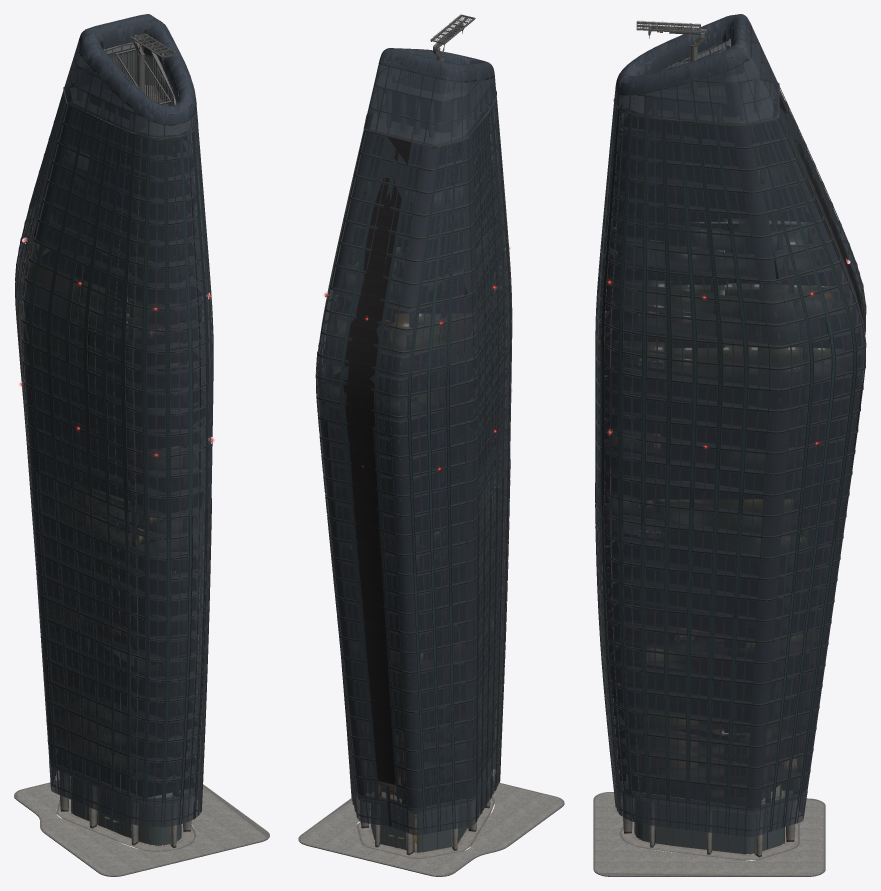
Rendered from london_skyscraper.glb.
3 views of the same model, side by side, from view 1: azimuth 30°, elevation 25°; view 2: azimuth 150°, elevation 25°; view 3: azimuth 270°, elevation 25° (orthographic). The views are drawn at different scales.
Parts seen in each view (by area): view 1: Glass_Generic, Building_Facade.003, Interior_Top, Building_Facade.008, Glass_Generic_More_Opaque, Sidewalk_02, Building_Facade.007, Building_Facade.006, Top_Piece, Glass_Generic.001, Sidewalk_01, Glass_Lobby.002 (+3 smaller); view 2: Building_Facade.003, Glass_Generic, Interior_Top, Glass_Generic_More_Opaque, Building_Facade.007, Sidewalk_02, Building_Facade.008, Building_Facade.006, Top_Piece, Glass_Generic.001, Sidewalk_01, Building_Facade.004 (+3 smaller); view 3: Glass_Generic, Building_Facade.003, Interior_Top, Glass_Generic_More_Opaque, Building_Facade.008, Sidewalk_02, Building_Facade.006, Building_Facade.007, Top_Piece, Glass_Generic.001, Glass_Lobby.002, Sidewalk_01 (+6 smaller).
Part boxes in pixels (box(x1,y1,x2,y2)): Glass_Generic: box(16, 91, 213, 801); Building_Facade.003: box(15, 86, 213, 801); Interior_Top: box(22, 110, 205, 797); Building_Facade.008: box(21, 104, 207, 779); Glass_Generic_More_Opaque: box(64, 14, 197, 137); Sidewalk_02: box(17, 779, 266, 875); Building_Facade.007: box(15, 262, 211, 798); Building_Facade.006: box(63, 14, 198, 139); Top_Piece: box(70, 42, 195, 135); Glass_Generic.001: box(49, 762, 201, 827); Sidewalk_01: box(14, 780, 269, 876); Glass_Lobby.002: box(71, 777, 181, 844); Building_Facade.003: box(316, 97, 512, 810); Glass_Generic: box(316, 99, 511, 810); Interior_Top: box(323, 108, 506, 805); Glass_Generic_More_Opaque: box(364, 48, 496, 147); Building_Facade.007: box(315, 343, 510, 808); Sidewalk_02: box(300, 783, 562, 875); Building_Facade.008: box(321, 115, 506, 792); Building_Facade.006: box(363, 48, 496, 147); Top_Piece: box(371, 71, 494, 144); Glass_Generic.001: box(350, 747, 501, 835); Sidewalk_01: box(298, 783, 564, 876); Building_Facade.004: box(349, 754, 501, 834); Glass_Generic: box(595, 91, 865, 809); Building_Facade.003: box(595, 80, 866, 809); Interior_Top: box(604, 104, 861, 806); Glass_Generic_More_Opaque: box(614, 14, 778, 125); Building_Facade.008: box(600, 110, 861, 786); Sidewalk_02: box(595, 792, 823, 875); Building_Facade.006: box(613, 14, 779, 126); Building_Facade.007: box(595, 296, 864, 806); Top_Piece: box(621, 38, 772, 122); Glass_Generic.001: box(613, 770, 807, 837); Glass_Lobby.002: box(634, 800, 784, 853); Sidewalk_01: box(593, 792, 825, 876).
Size of what is drawn, in the model's own units: 37.24 by 167 by 50.88.
19 materials, 17 textured.
